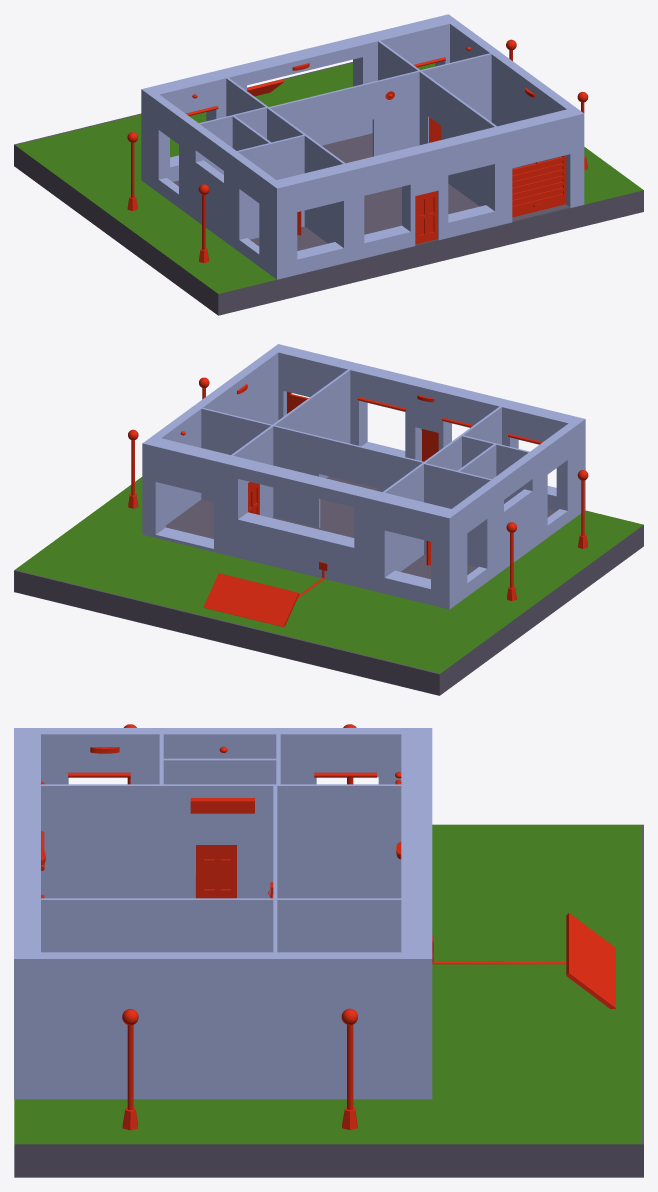
Rendered from casa.fbx.
3 views of the same model, one above another, from view 1: azimuth 30°, elevation 25°; view 2: azimuth 150°, elevation 25°; view 3: azimuth 270°, elevation 25° (orthographic). The views are drawn at different scales.
Parts seen in each view (by area): view 1: maquetaSTL, Cubo.003, Cubo.002, Cubo, porton, Cubo.001, puerta, Esfera.001, Esfera; view 2: maquetaSTL, Cubo.003, Cubo.002, Cubo.004, Cubo, Cubo.001; view 3: maquetaSTL, Cubo.003, Cubo.002, Cubo.004, puerta.005, Cubo.001, Esfera.002, Esfera.003, Cubo.007.
Boxes of the visible parts, left/top/right/bottom form: maquetaSTL: left=141, top=14, right=584, bottom=279; Cubo.003: left=15, top=62, right=633, bottom=286; Cubo.002: left=14, top=62, right=643, bottom=315; Cubo: left=173, top=133, right=569, bottom=250; porton: left=512, top=155, right=566, bottom=217; Cubo.001: left=209, top=183, right=643, bottom=293; puerta: left=415, top=191, right=437, bottom=244; Esfera.001: left=127, top=132, right=137, bottom=210; Esfera: left=198, top=184, right=209, bottom=262; maquetaSTL: left=142, top=344, right=585, bottom=609; Cubo.003: left=15, top=477, right=633, bottom=673; Cubo.002: left=14, top=525, right=643, bottom=695; Cubo.004: left=203, top=573, right=299, bottom=626; Cubo: left=166, top=476, right=556, bottom=579; Cubo.001: left=576, top=510, right=643, bottom=531; maquetaSTL: left=14, top=728, right=432, bottom=1099; Cubo.003: left=44, top=824, right=641, bottom=1144; Cubo.002: left=14, top=824, right=643, bottom=1177; Cubo.004: left=566, top=913, right=615, bottom=1008; puerta.005: left=196, top=845, right=236, bottom=898; Cubo.001: left=14, top=1099, right=44, bottom=1144; Esfera.002: left=122, top=1009, right=138, bottom=1130; Esfera.003: left=341, top=1008, right=357, bottom=1129; Cubo.007: left=190, top=798, right=254, bottom=813.
Size of what is drawn, in the model's own units: 73275 by 18585 by 60997.
